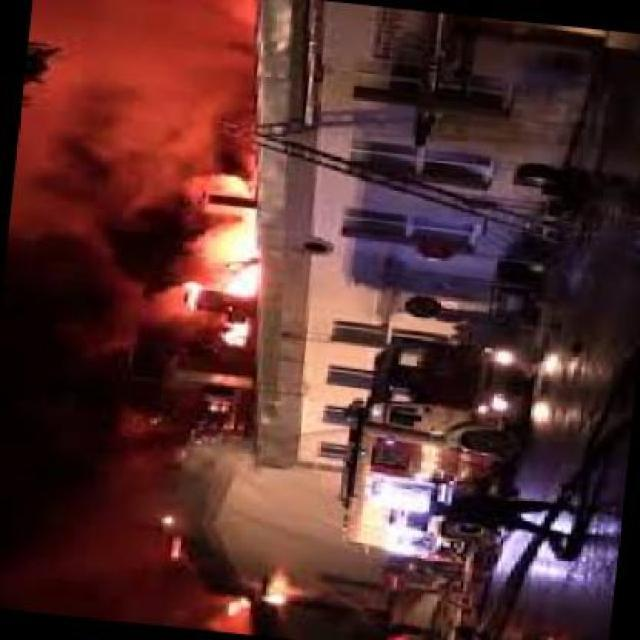Fire: (193, 174, 263, 326)
Smoke: (0, 175, 176, 634), (10, 0, 258, 179)
